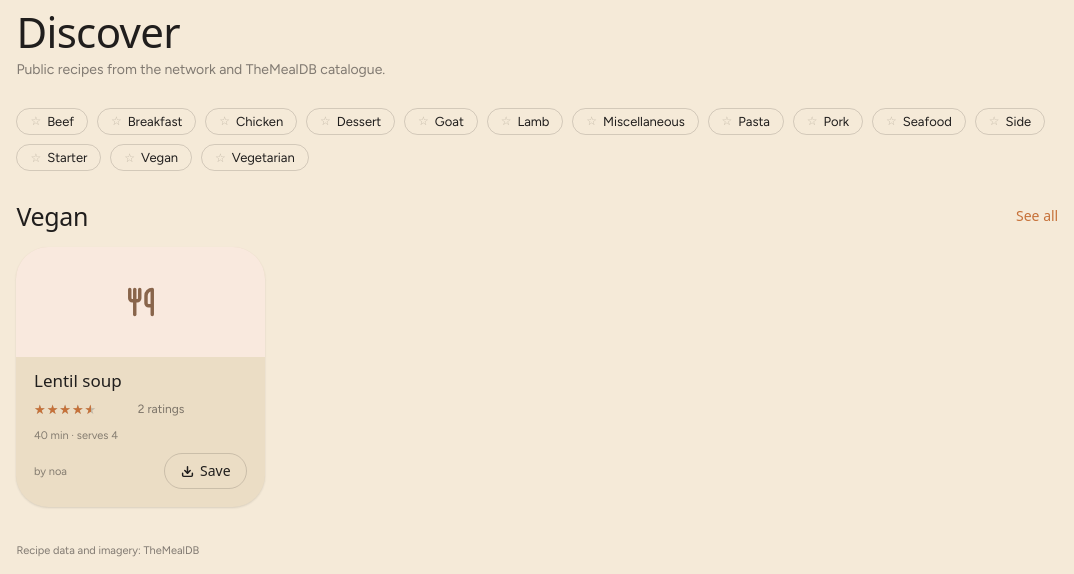
Scenario: DiscoverScreen › SAVE-2 saves a public recipe and then offers Cook on the saved copy
The width and height of the screenshot is (1074, 574).
Click the button "Save".
click(206, 471)  # box [164, 453, 247, 490]
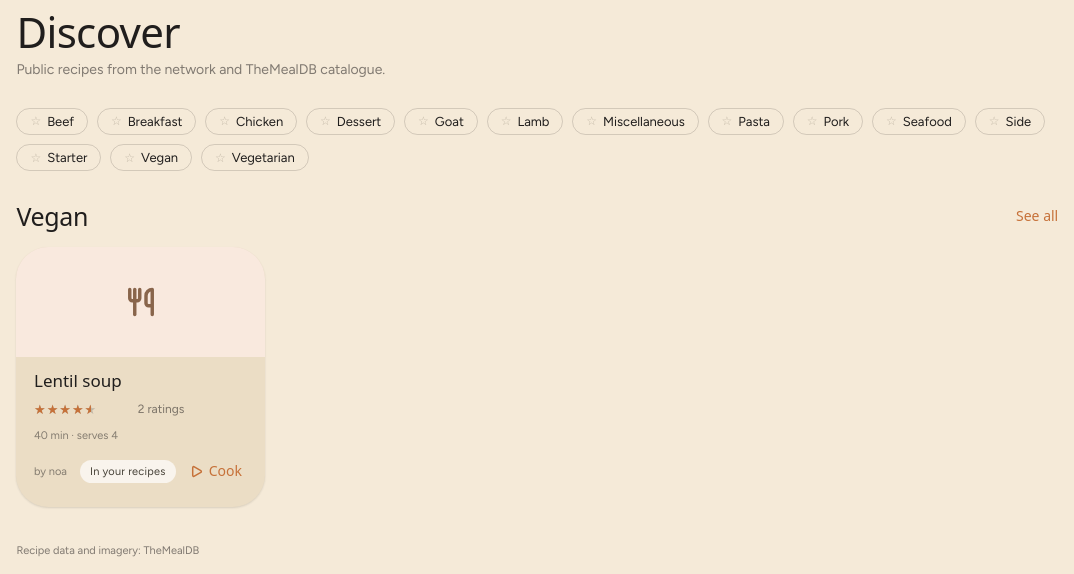
Expected: the button "Cook" is shown, [184, 453, 247, 490]
Expected: the button "Save" is gone
